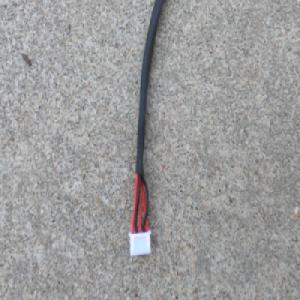Wire: (127, 0, 172, 259)
